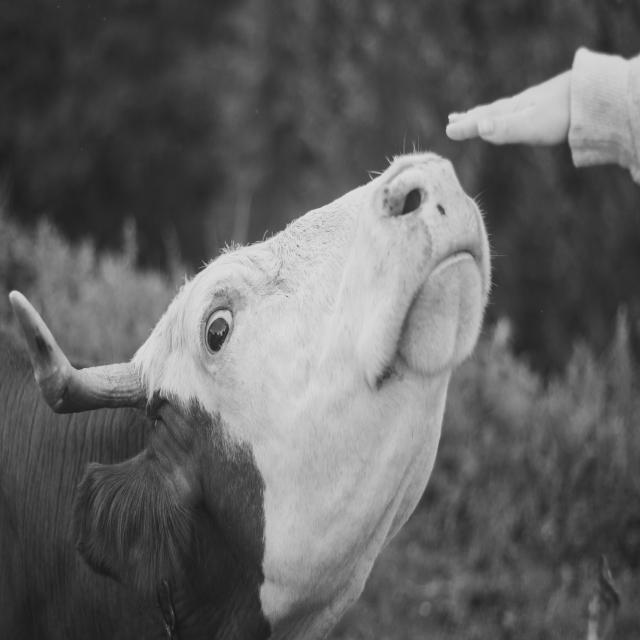cow: (0, 154, 490, 639)
